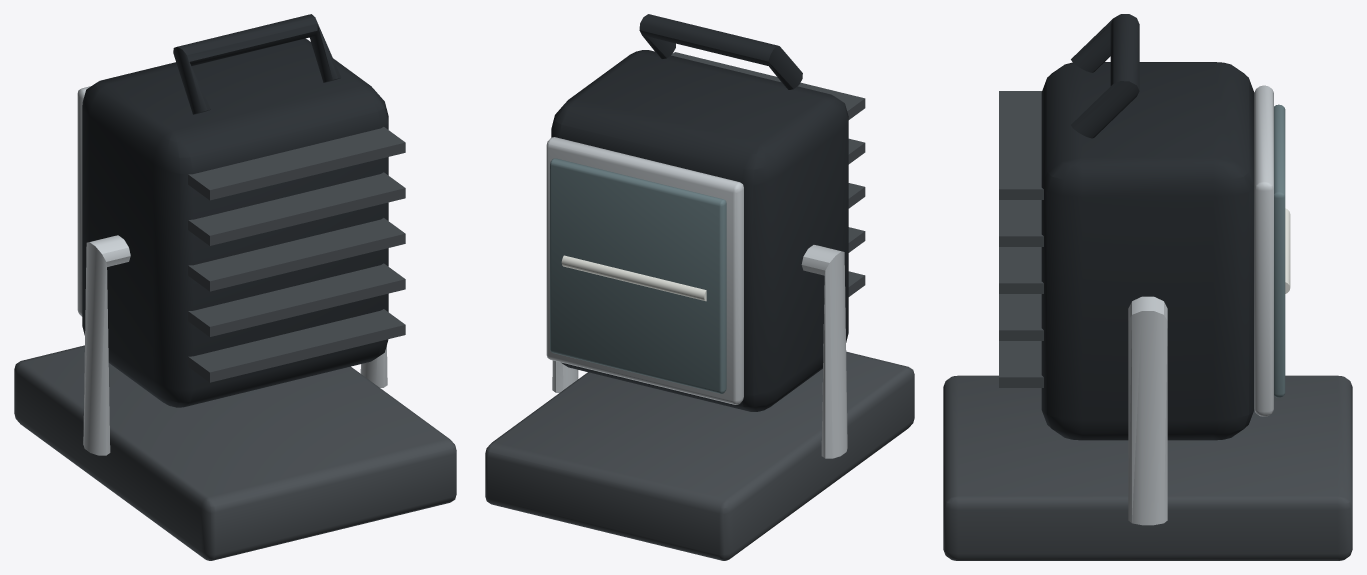
Rendered from ob_floodlight.glb.
3 renders of one model, left to right at view 1: azimuth 30°, elevation 25°; view 2: azimuth 150°, elevation 25°; view 3: azimuth 270°, elevation 25°, orthographic. The views are drawn at different scales.
Visible parts, largest first — view 1: ob_floodlight; view 2: ob_floodlight; view 3: ob_floodlight.
Part boxes in pixels (bbox=[...]): ob_floodlight: bbox=[14, 14, 456, 560]; ob_floodlight: bbox=[485, 14, 914, 560]; ob_floodlight: bbox=[943, 14, 1352, 560].
Bounding box in the file's own units: 0.31 × 0.44 × 0.36.
